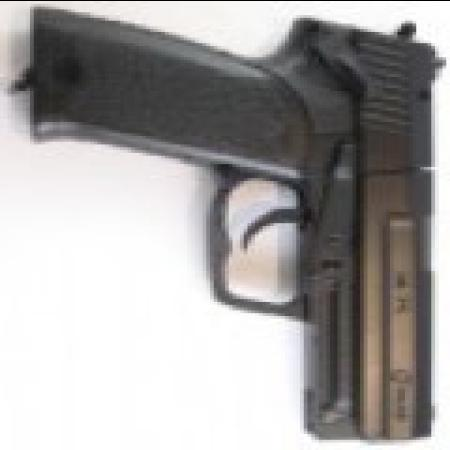Pistol: (33, 9, 442, 441)
